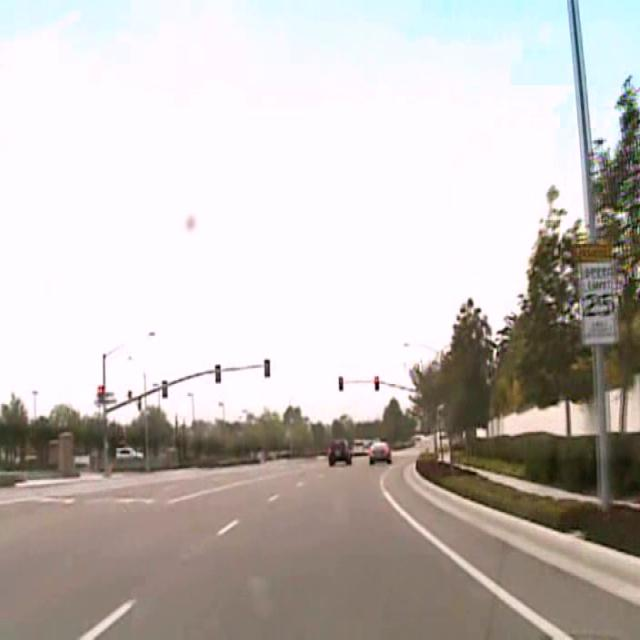speedLimit25: (576, 240, 619, 347)
